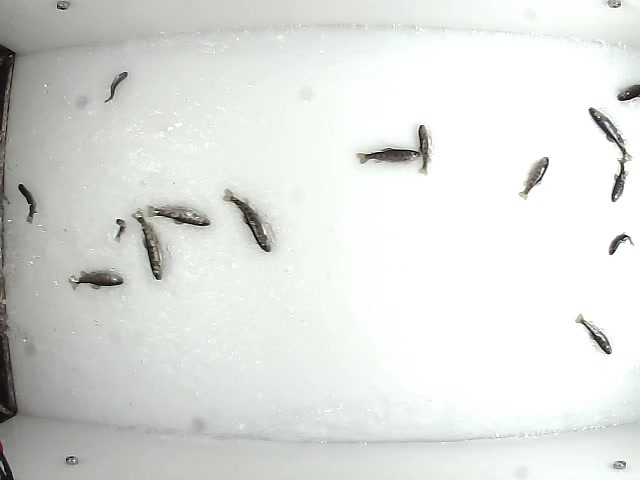fish: (219, 187, 274, 255), (586, 104, 633, 165), (129, 207, 166, 282), (573, 312, 615, 357), (144, 203, 214, 229), (516, 154, 551, 201), (353, 145, 422, 167), (68, 267, 126, 290), (413, 122, 434, 179), (609, 155, 629, 204), (101, 70, 128, 105), (17, 181, 38, 224), (605, 230, 636, 259), (113, 217, 127, 243)
